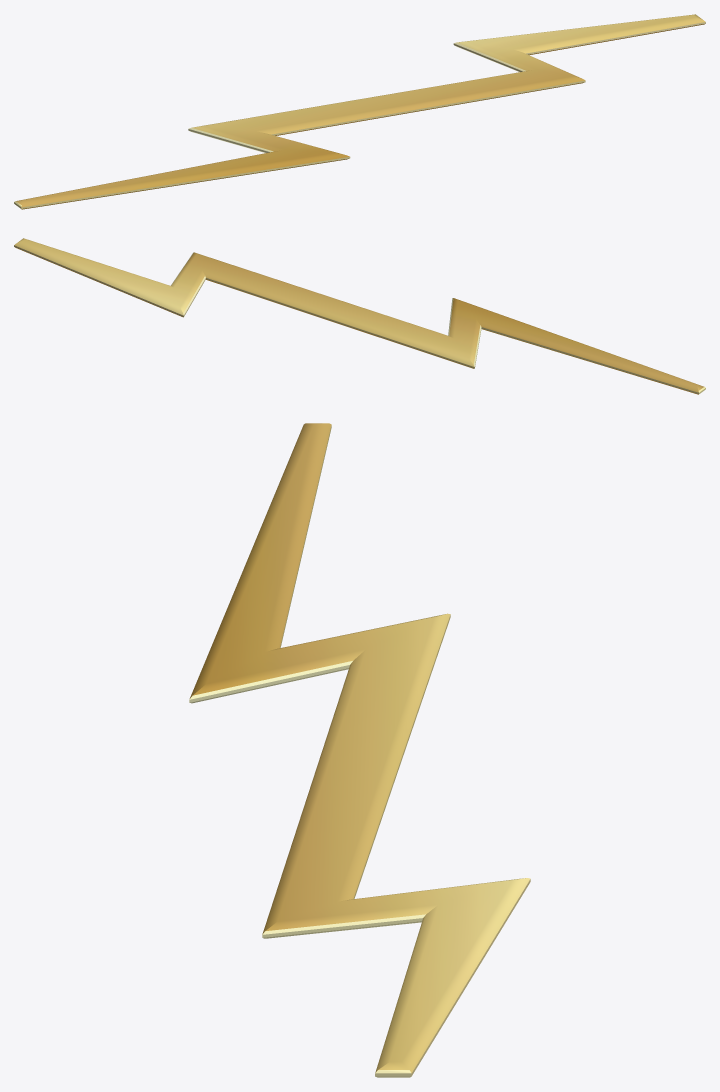
Rendered from thunderbolt.glb.
3 renders of one model, top to bottom at view 1: azimuth 30°, elevation 25°; view 2: azimuth 150°, elevation 25°; view 3: azimuth 270°, elevation 25°, orthographic. The views are drawn at different scales.
Visible parts, largest first — view 1: pCube1; view 2: pCube1; view 3: pCube1.
Boxes of the visible parts, x1,y1,x2,y2 form: pCube1: [14, 14, 705, 209]; pCube1: [14, 238, 705, 394]; pCube1: [189, 423, 530, 1077].
Size of the model in its own units: 0.1769 by 0.00196 by 0.0393.
Materials: 1 (1 with a texture image).
